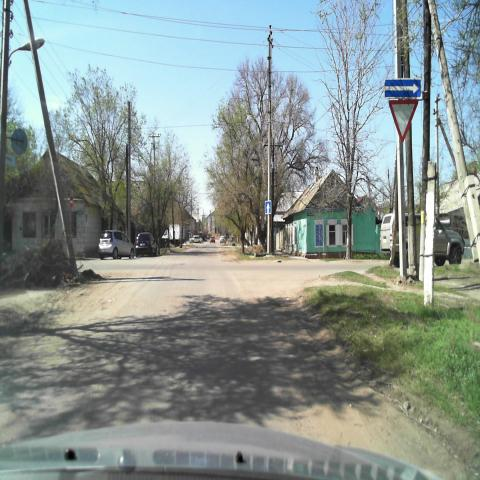5_5: (264, 200, 272, 214)
5_7_1: (384, 77, 422, 98)
